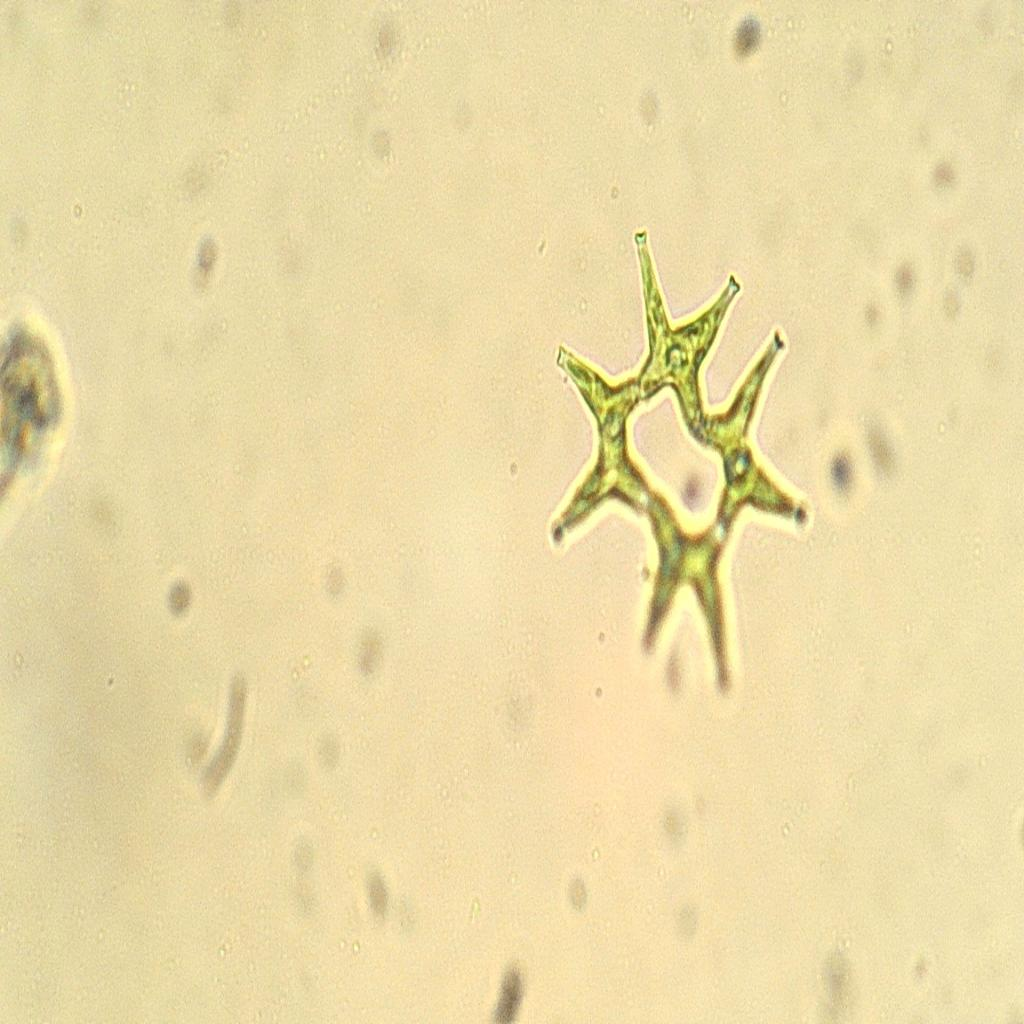Pediastrum_75O: (538, 184, 825, 722)
